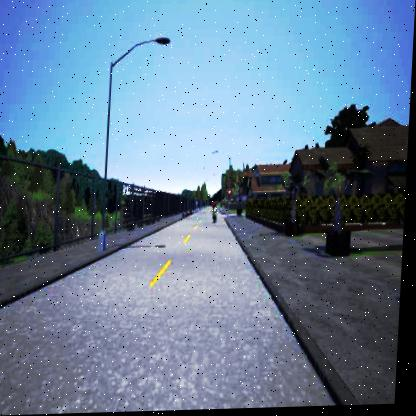motobike: (212, 203, 221, 223)
